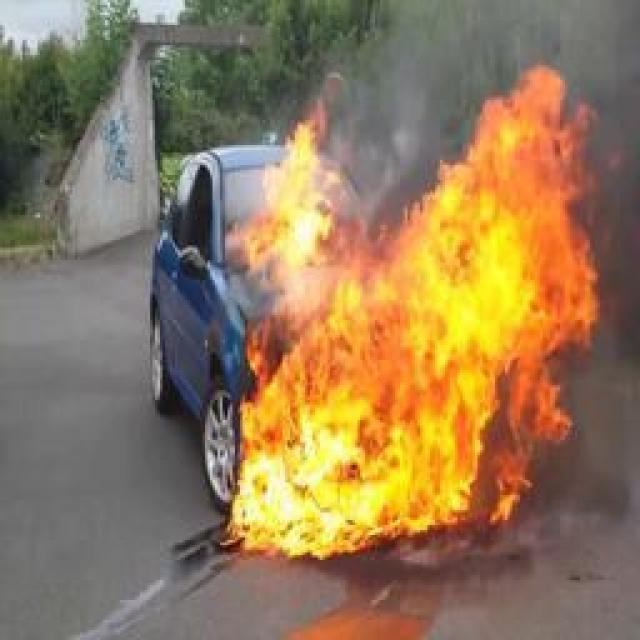Fire: (231, 66, 599, 559)
